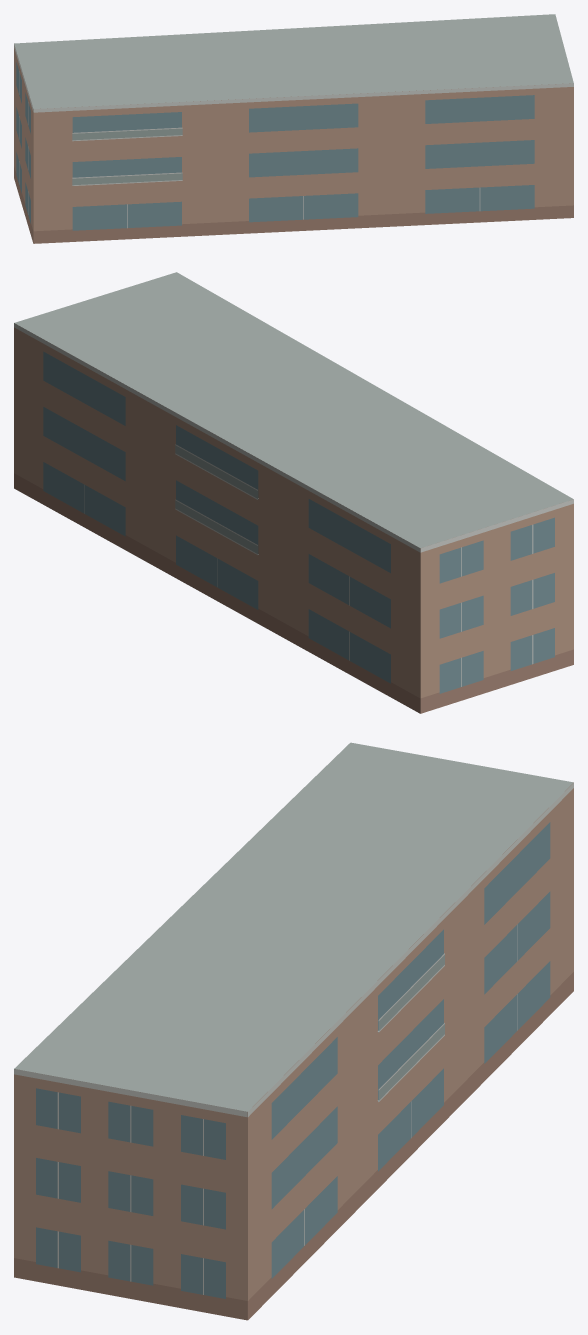
Rendered from survey-upis-32658807.glb.
The picture shows the model from 3 angles, top to bottom: view 1: azimuth 30°, elevation 25°; view 2: azimuth 150°, elevation 25°; view 3: azimuth 270°, elevation 25°; orthographic projection. The views are drawn at different scales.
Parts seen in each view (by area): view 1: survey-upis-32658807.tmp; view 2: survey-upis-32658807.tmp; view 3: survey-upis-32658807.tmp.
Boxes of the visible parts, box(x1,y1,x2,y2) form: survey-upis-32658807.tmp: box(14, 14, 573, 243); survey-upis-32658807.tmp: box(14, 272, 573, 713); survey-upis-32658807.tmp: box(14, 742, 573, 1320).
Size of the model in its own units: 34.75 by 9.15 by 22.26.
